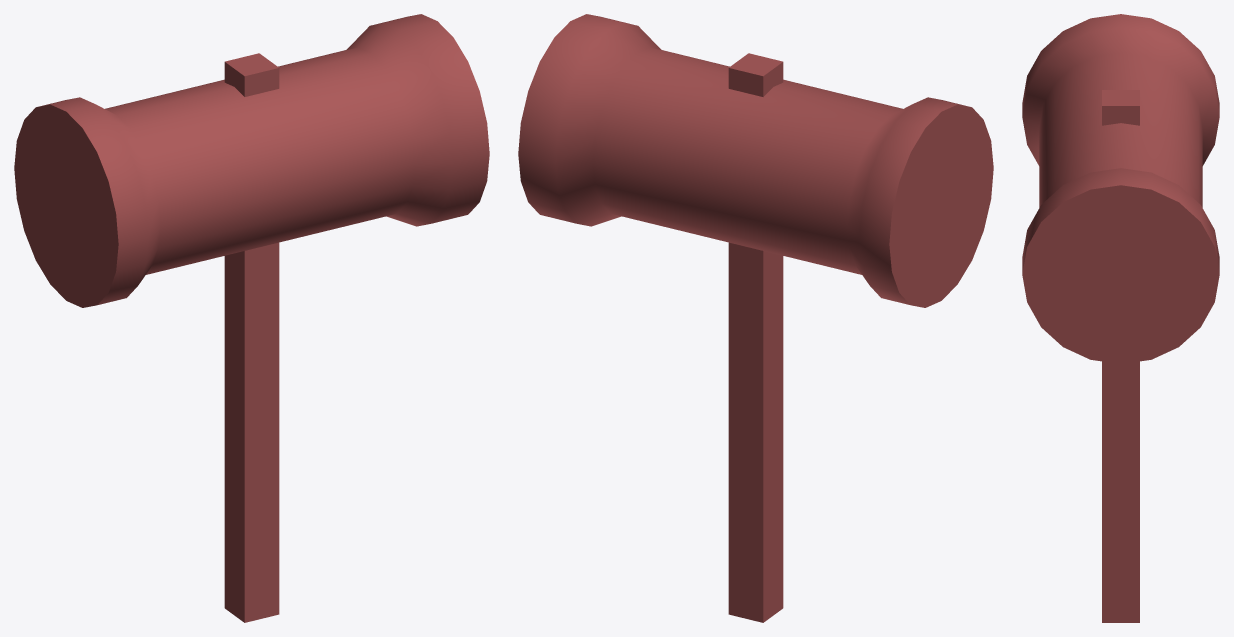
Rendered from Hammer.fbx.
3 renders of one model, left to right at view 1: azimuth 30°, elevation 25°; view 2: azimuth 150°, elevation 25°; view 3: azimuth 270°, elevation 25°, orthographic. The views are drawn at different scales.
Visible parts, largest first — view 1: polySurface1; view 2: polySurface1; view 3: polySurface1.
Boxes of the visible parts, x1,y1,x2,y2 form: polySurface1: (14,14,489,622); polySurface1: (518,14,993,622); polySurface1: (1022,14,1219,622).
Bounding box in the file's own units: 0.0207 × 0.0291 × 0.0101.
